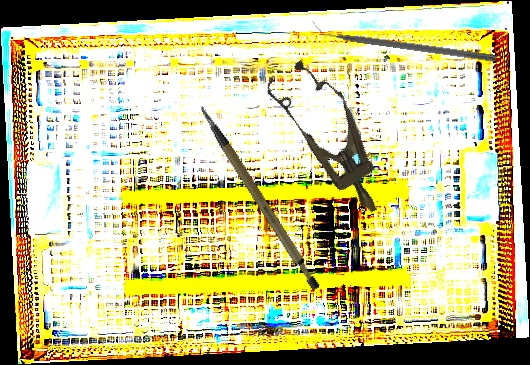Chopper: (308, 18, 500, 63)
Scalpel Handle: (198, 89, 323, 303)
Speculum: (259, 50, 403, 229)
